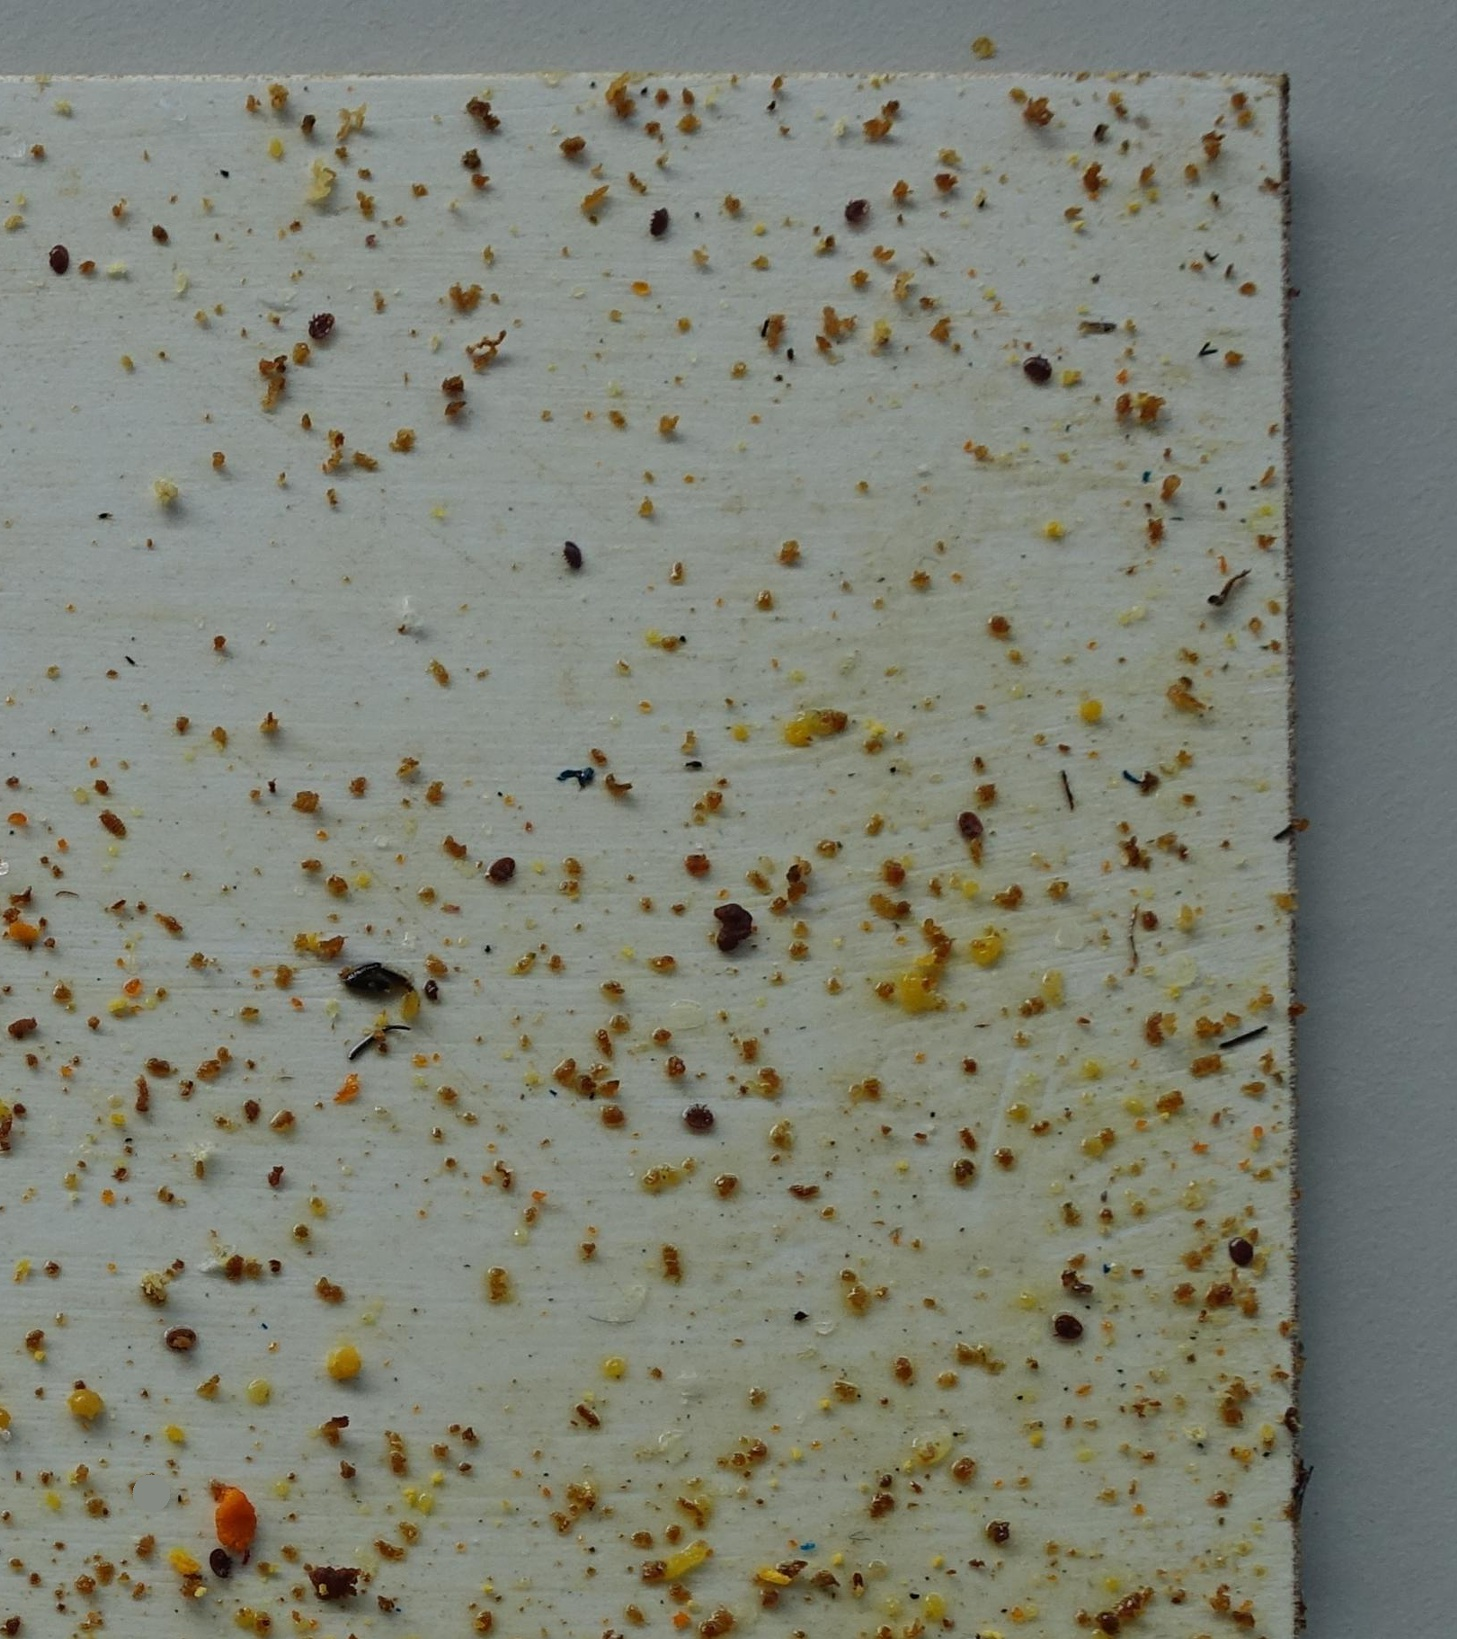Varroa: (955, 806, 986, 836), (165, 1324, 195, 1353), (487, 854, 516, 882), (849, 196, 876, 224), (315, 312, 343, 339), (558, 539, 585, 564), (1100, 1608, 1124, 1636), (1024, 355, 1046, 380), (650, 211, 672, 236), (1231, 1235, 1252, 1261), (48, 248, 68, 267), (693, 1110, 706, 1124), (1060, 1322, 1072, 1337), (214, 1564, 226, 1573)
